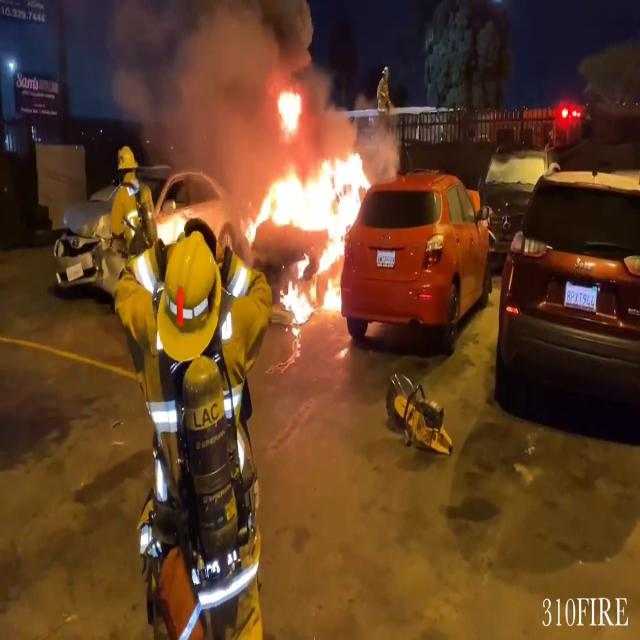Fire: (238, 122, 376, 316)
Smoke: (121, 0, 342, 191)
